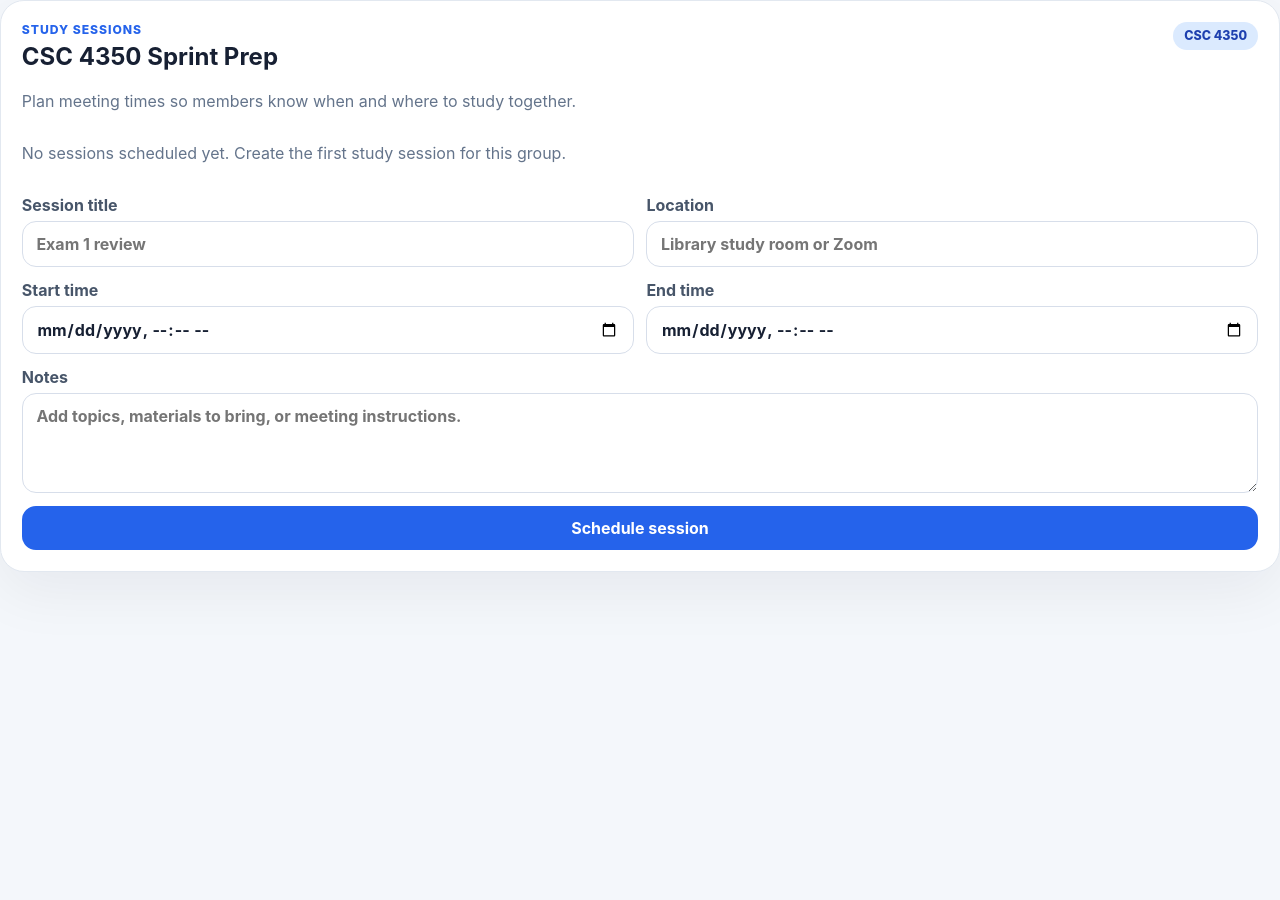
Scenario: GroupSessions › schedules a session when the student enters valid session times
In the field labelled "Session title": (328, 244) x1=22 y1=221 x2=634 y2=267, type "Exam Review"
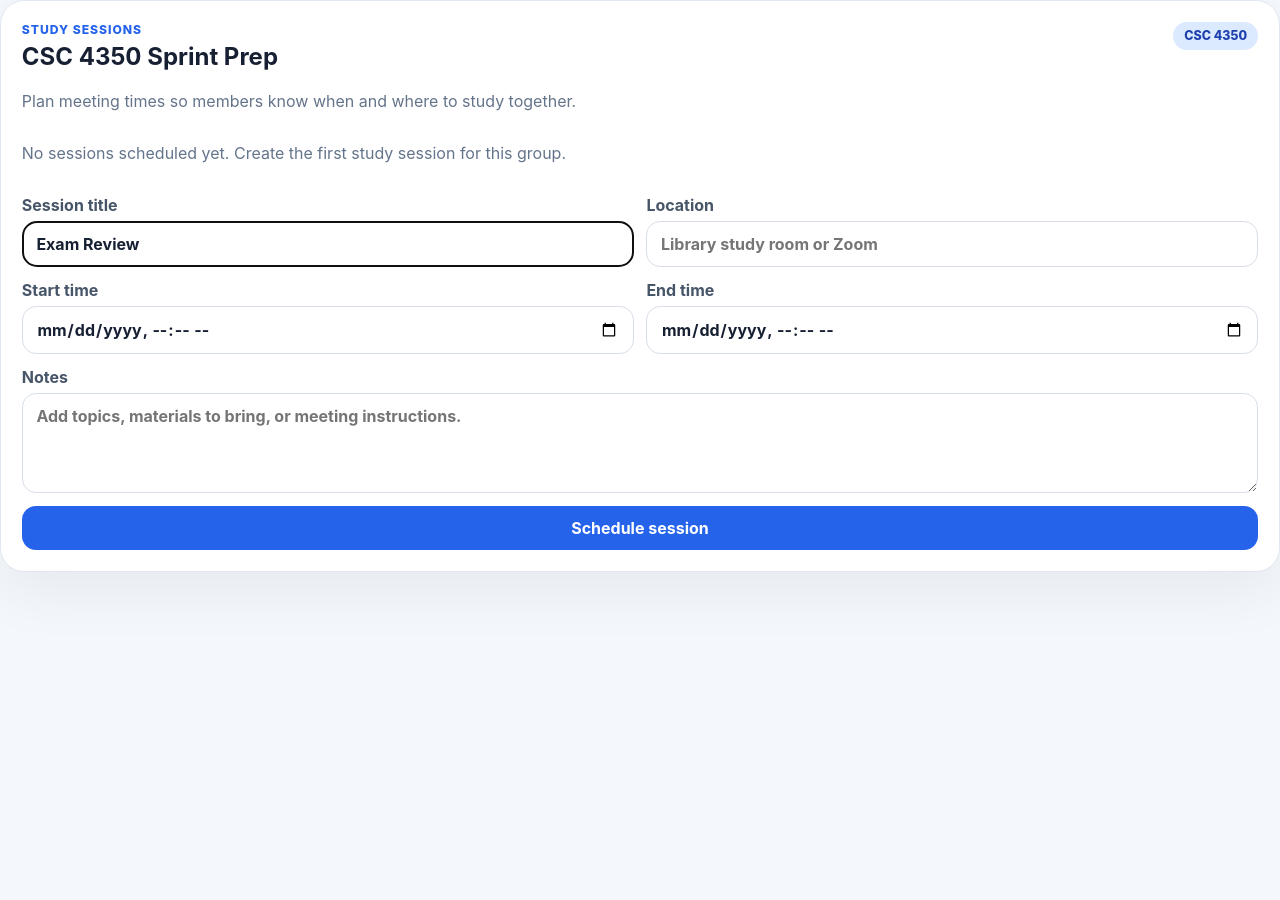
In the field labelled "Location": (952, 244) x1=646 y1=221 x2=1258 y2=267, type "Library Room 204"
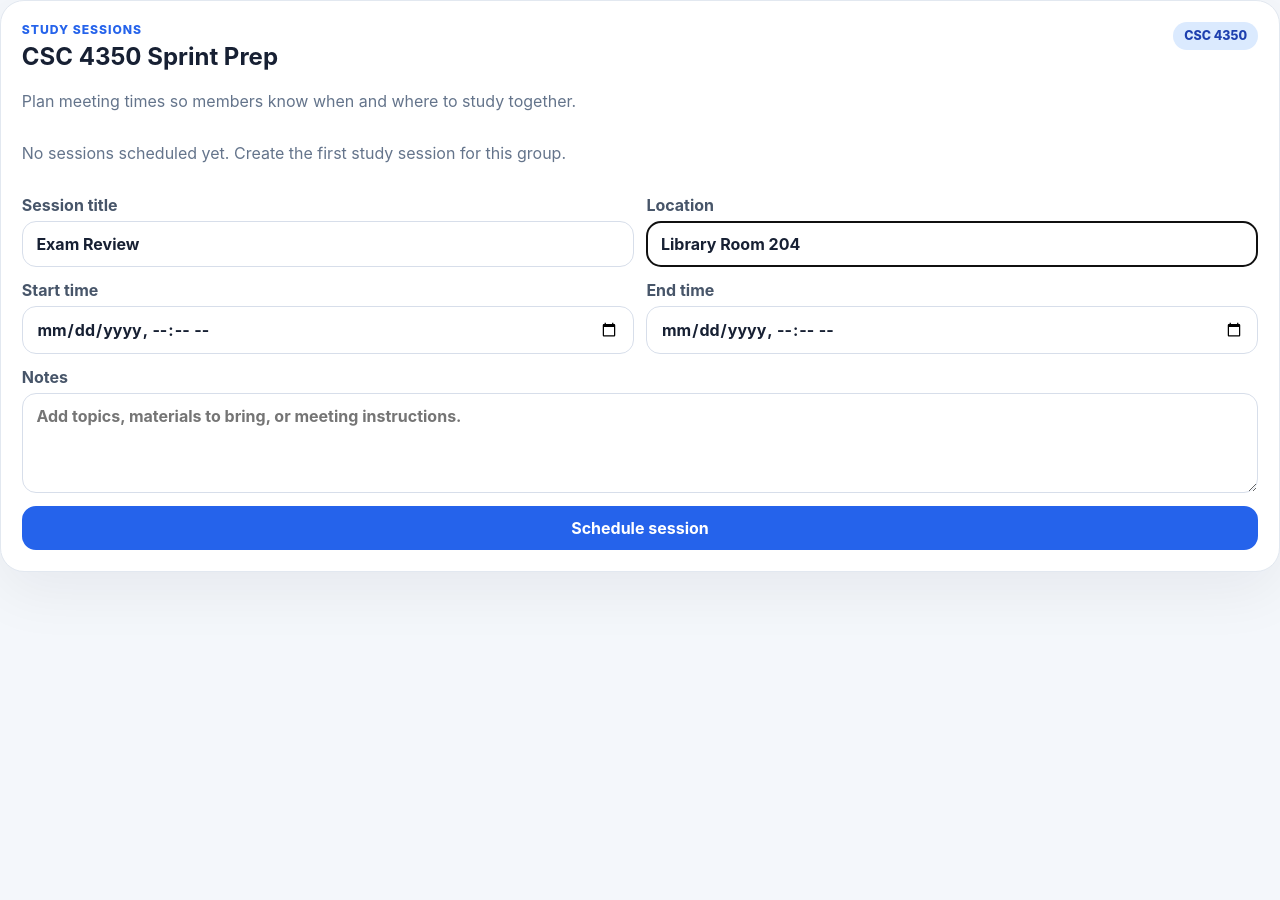
In the field labelled "Start time": (328, 330) x1=22 y1=306 x2=634 y2=354, type "2026-07-20T14:00"
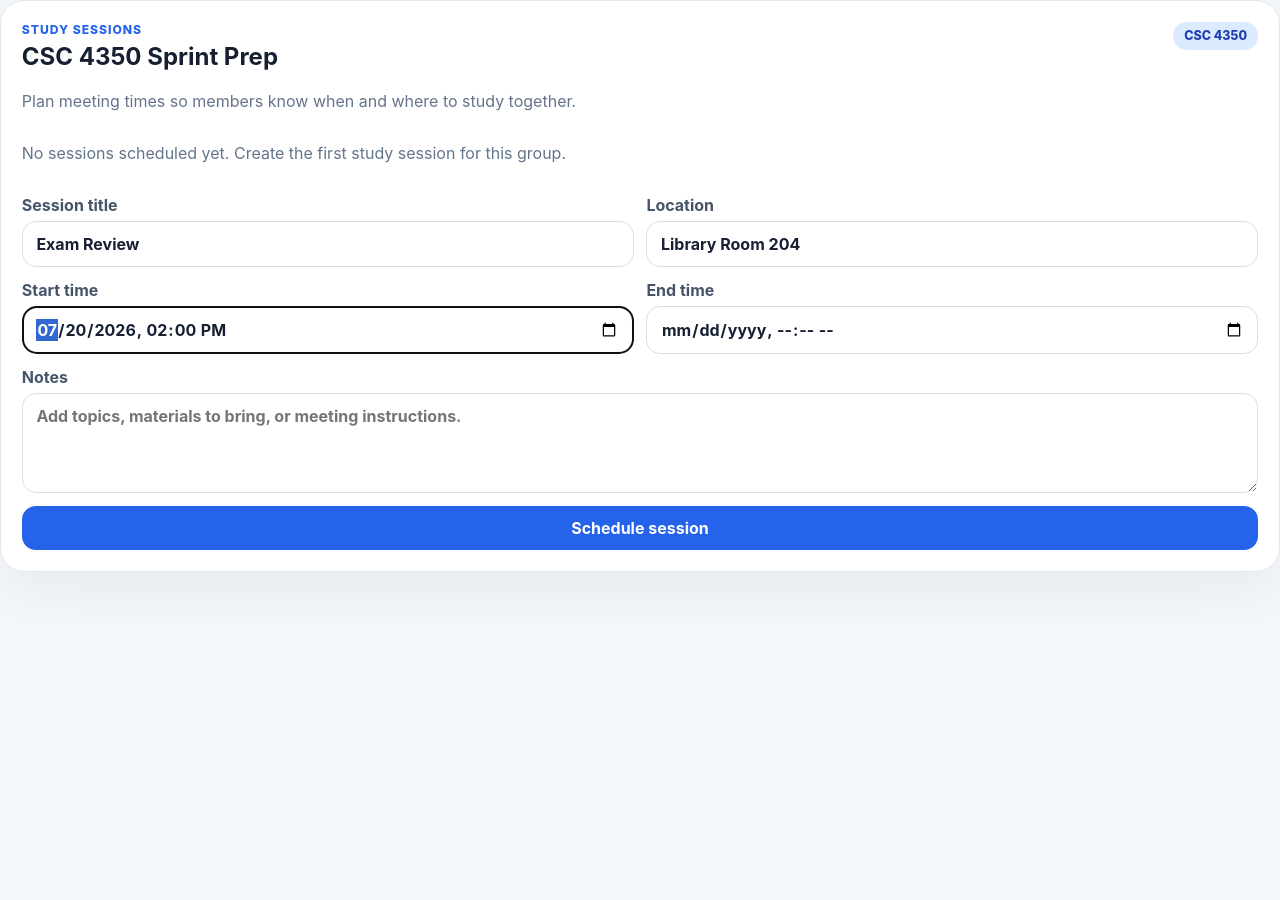
In the field labelled "End time": (952, 330) x1=646 y1=306 x2=1258 y2=354, type "2026-07-20T15:30"
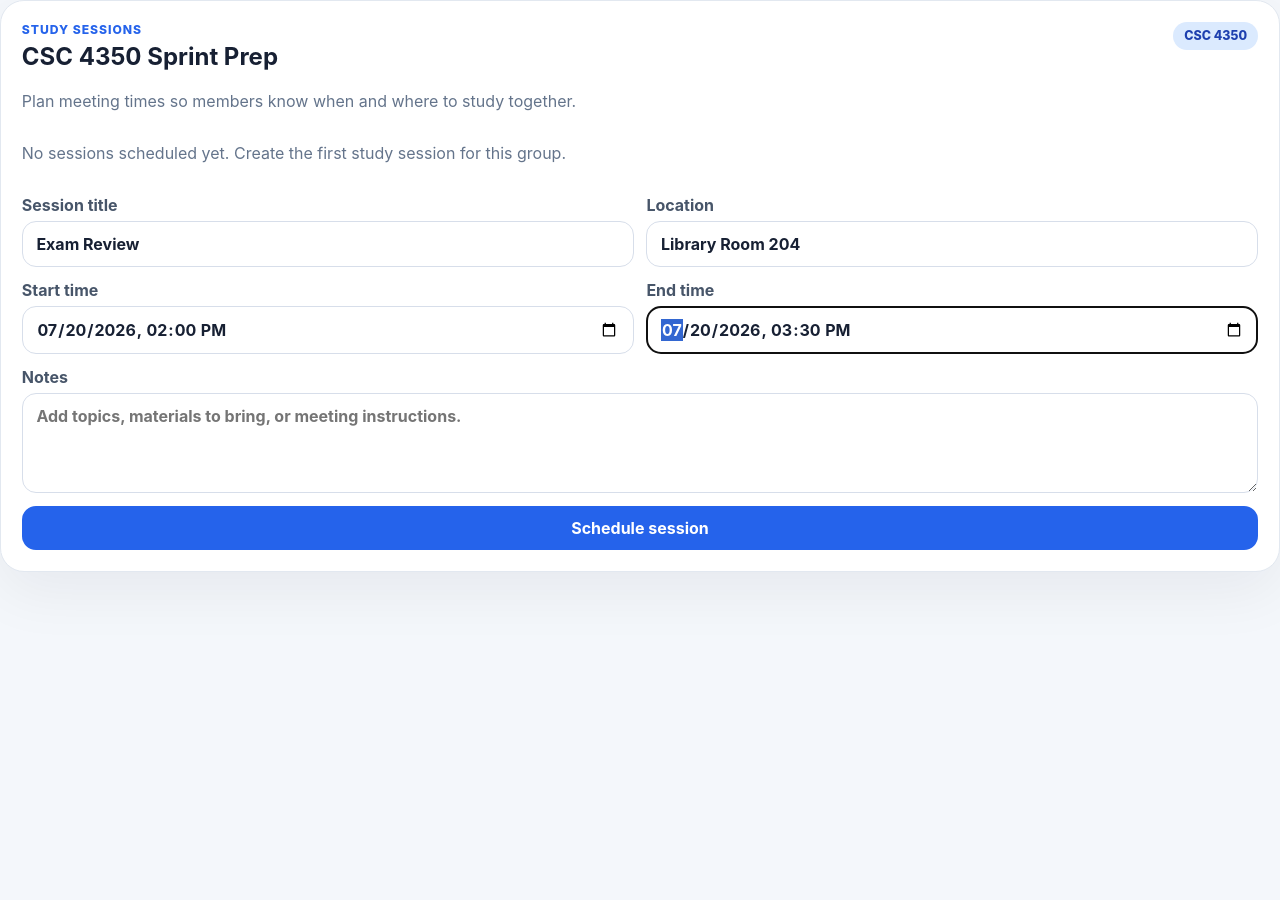
In the text box labelled "Notes": (640, 443) x1=22 y1=393 x2=1258 y2=493, type "Bring practice problems"
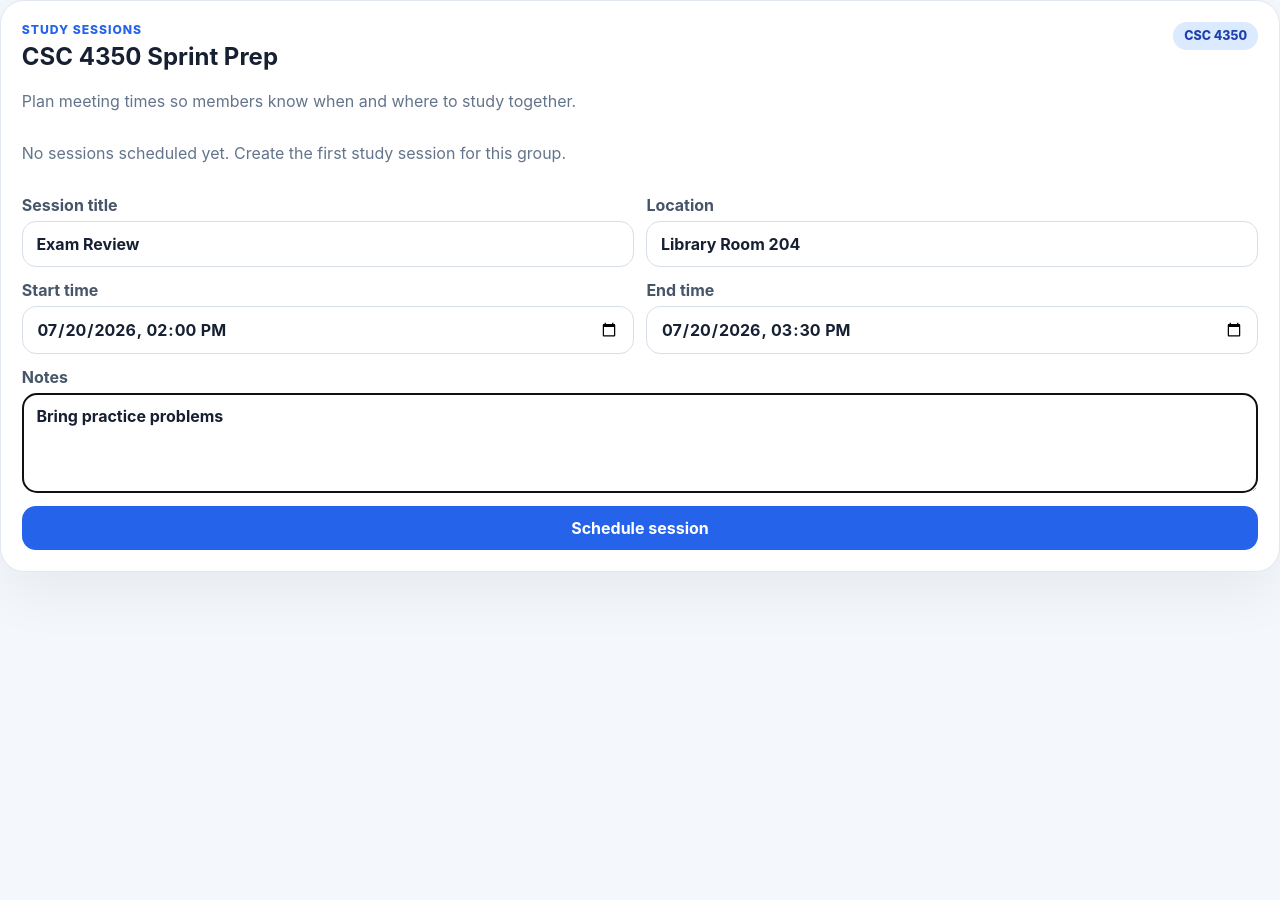
Click the button "Schedule session": (640, 528) x1=22 y1=506 x2=1258 y2=550
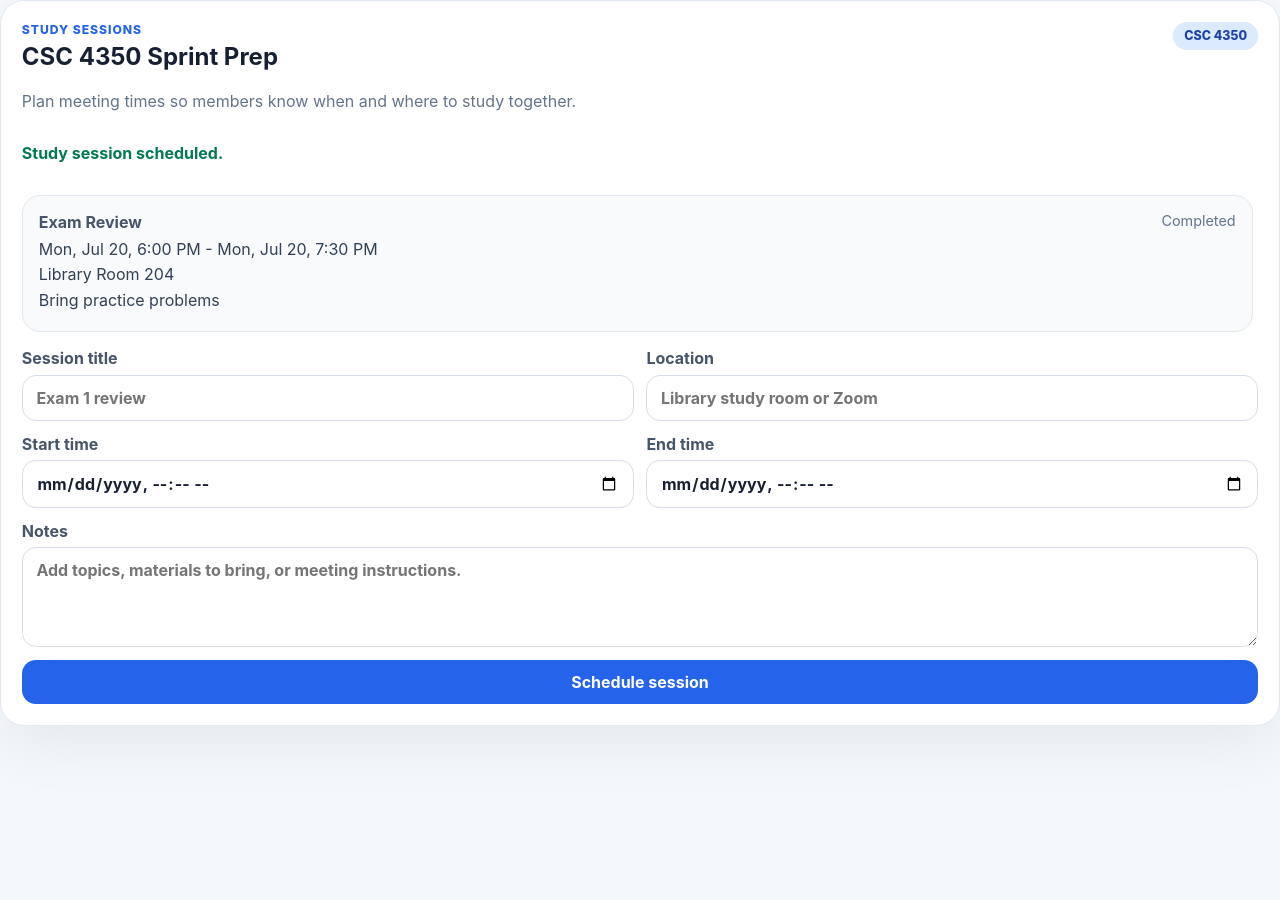
Now the text "Study session scheduled." is shown, box x1=22 y1=142 x2=223 y2=162
Now the text "Exam Review" is shown, box x1=39 y1=212 x2=142 y2=232
Now the text "Library Room 204" is shown, box x1=39 y1=264 x2=174 y2=284
